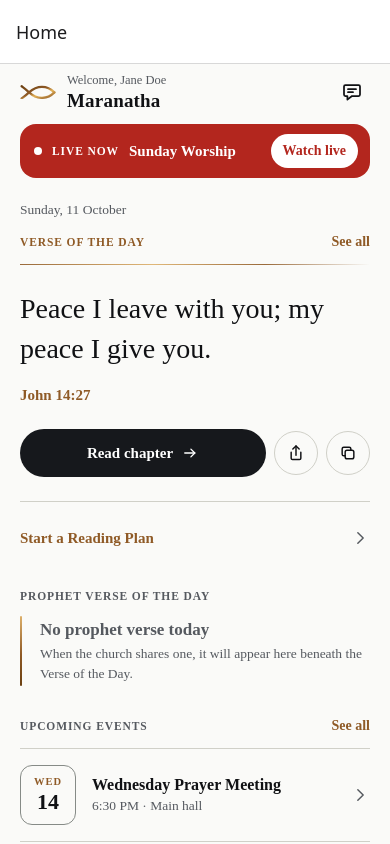
Test: HomeScreen › shows a slim live bar for a live event, and opens that event
Check: the text "Sunday Worship" is shown, box left=129, top=143, right=236, bottom=159
Check: the text "Watch live" is shown, box left=283, top=142, right=346, bottom=160
Click the button with test id "home-live-banner" at coordinates (195, 151), box left=20, top=124, right=370, bottom=178
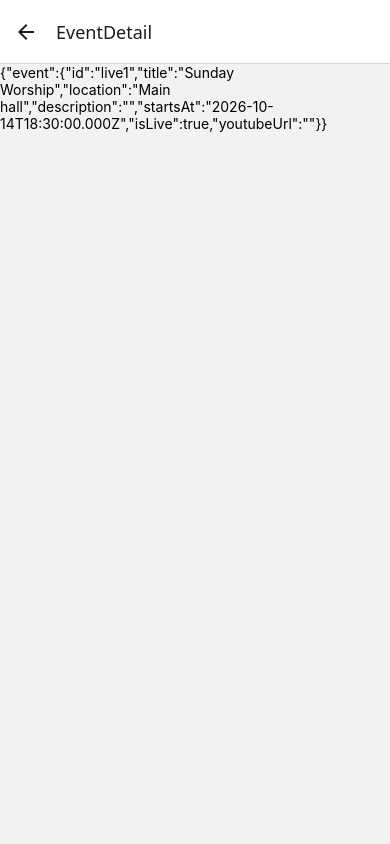
Check: the text with test id "event-detail-stub" is shown, box left=0, top=64, right=327, bottom=132
